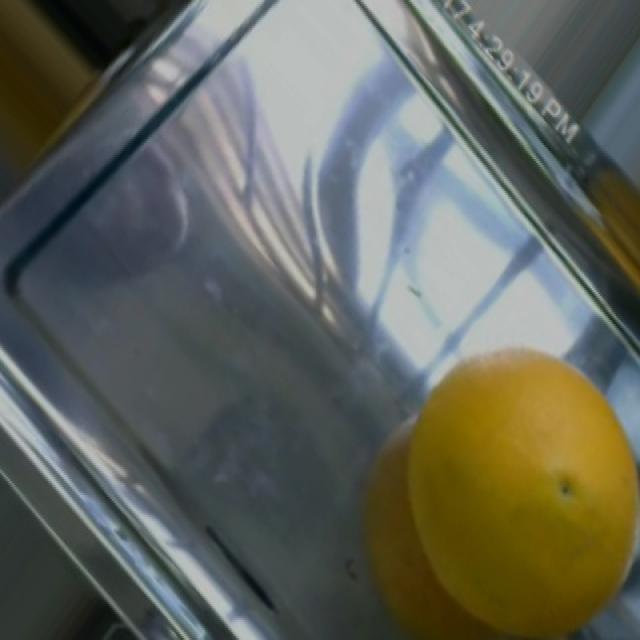Fruit: (360, 330, 636, 640)
